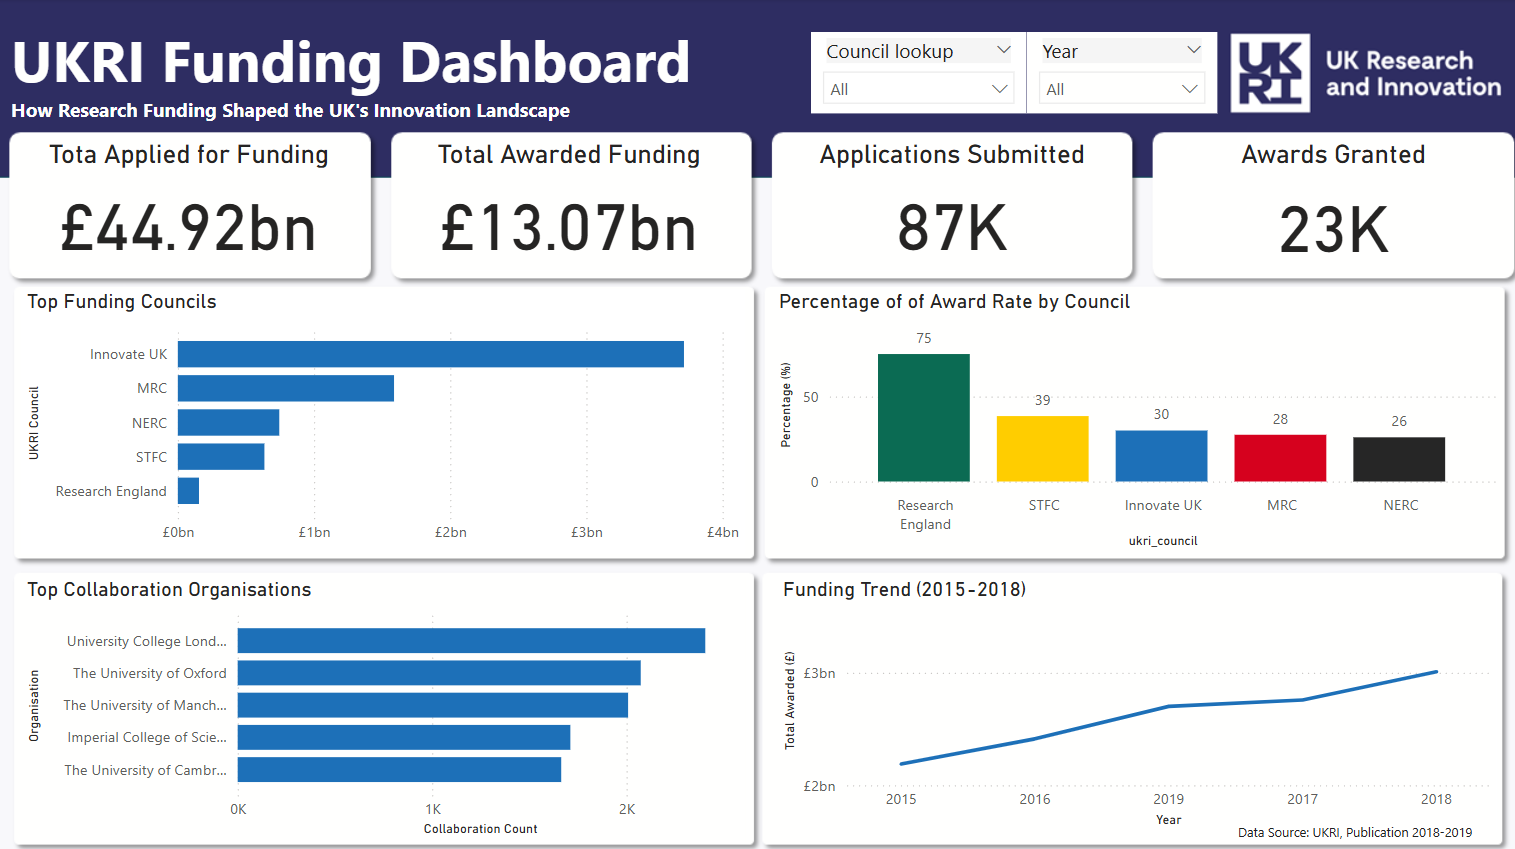

Layout of this report page (visuals, bound fields, positions):
{"tool":"powerbi","page":{"name":"Page 1","canvas":[1280,720],"ordinal":0},"visuals":[{"type":"columnChart","title":"Percentage of  of Award Rate by Council","fields":{"Y":["Max(funding_trends.avg_award_rate_number)"],"Category":["funding_trends.ukri_council"]},"box":[655.6,242.2,608.9,220.8],"z":0},{"type":"lineChart","title":"Funding Trend (2015-2018)","fields":{"Category":["funding_trends.Year"],"Y":["Sum(funding_trends.total_awarded)"]},"box":[659,482.8,600.6,213],"z":1000},{"type":"slicer","fields":{"Values":["funding_trends.ukri_council"]},"box":[687.4,27.6,180.4,67.7],"z":2000},{"type":"clusteredBarChart","title":"Top Collaboration Organisations","fields":{"Category":["ucl_collaborations.organisation"],"Y":["Sum(ucl_collaborations.collaboration_count)"]},"box":[27.2,482.4,605,220.8],"z":3000},{"type":"slicer","fields":{"Values":["funding_trends.Year"]},"box":[867.8,27.6,158.7,67.7],"z":4000},{"type":"textbox","box":[14.6,12.6,592.3,97.3],"z":5000},{"type":"card","title":"Applications Submitted","fields":{"Values":["Sum(funding_trends.total_applications)"]},"box":[663.3,116.7,284,109.9],"z":6000},{"type":"card","title":"Total Awarded Funding","fields":{"Values":["Sum(funding_trends.total_awarded)"]},"box":[340.4,116.7,288.9,109.9],"z":7000},{"type":"card","title":"Tota Applied for Funding","fields":{"Values":["Sum(funding_trends.total_applied)"]},"box":[24.3,116.7,286.9,109.9],"z":8000},{"type":"card","title":"Awards Granted","fields":{"Values":["Sum(funding_trends.total_awards)"]},"box":[976.5,116.7,294.7,112.8],"z":9000},{"type":"clusteredBarChart","title":"Top Funding Councils","fields":{"Category":["funding_trends.ukri_council"],"Y":["Sum(funding_trends.total_awarded)"]},"box":[27.2,242.2,605,220.8],"z":10000},{"type":"textbox","box":[1039.1,680.7,220.5,28.4],"z":10001}]}

Visuals, with their boxes in screenshot pixels (x1, y1, x2, y2), scaled from the page's 1280x720 canvas onto the 1515x849 screenshot:
"Percentage of  of Award Rate by Council" columnChart: bbox=[776, 286, 1497, 546]
"Funding Trend (2015-2018)" lineChart: bbox=[780, 569, 1491, 820]
slicer - funding_trends.ukri_council: bbox=[814, 33, 1027, 112]
"Top Collaboration Organisations" clusteredBarChart: bbox=[32, 569, 748, 829]
slicer - funding_trends.Year: bbox=[1027, 33, 1215, 112]
textbox: bbox=[17, 15, 718, 130]
"Applications Submitted" card: bbox=[785, 138, 1121, 267]
"Total Awarded Funding" card: bbox=[403, 138, 745, 267]
"Tota Applied for Funding" card: bbox=[29, 138, 368, 267]
"Awards Granted" card: bbox=[1156, 138, 1505, 271]
"Top Funding Councils" clusteredBarChart: bbox=[32, 286, 748, 546]
textbox: bbox=[1230, 803, 1491, 836]
